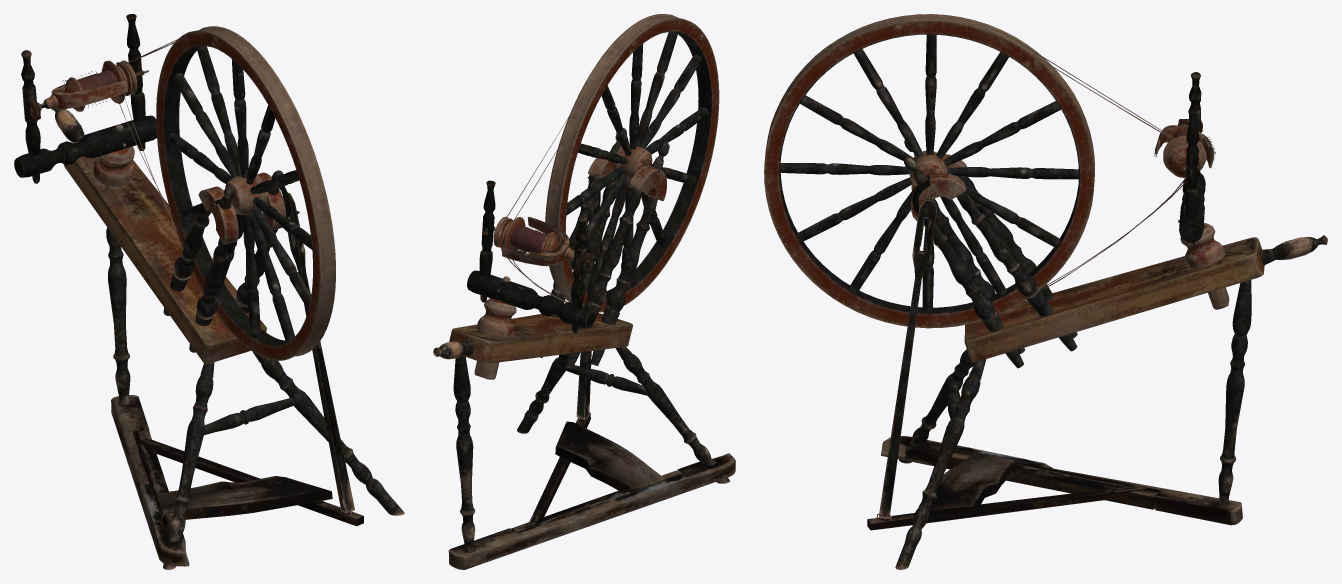
File: spinning_wheel_01.glb
3 views of the same model, side by side, from view 1: azimuth 30°, elevation 25°; view 2: azimuth 150°, elevation 25°; view 3: azimuth 270°, elevation 25° (orthographic). The views are drawn at different scales.
Parts seen in each view (by area): view 1: spinning_wheel_01; view 2: spinning_wheel_01; view 3: spinning_wheel_01.
Part boxes in pixels (x1,y1,x2,y2): spinning_wheel_01: (14,14,404,569); spinning_wheel_01: (433,14,735,569); spinning_wheel_01: (764,14,1327,569).
Size of the model in its own units: 0.4894 by 0.9657 by 1.02.
Materials: 1 (1 with a texture image).
